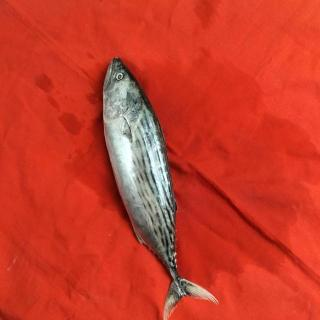Ikan: (94, 51, 228, 320)
